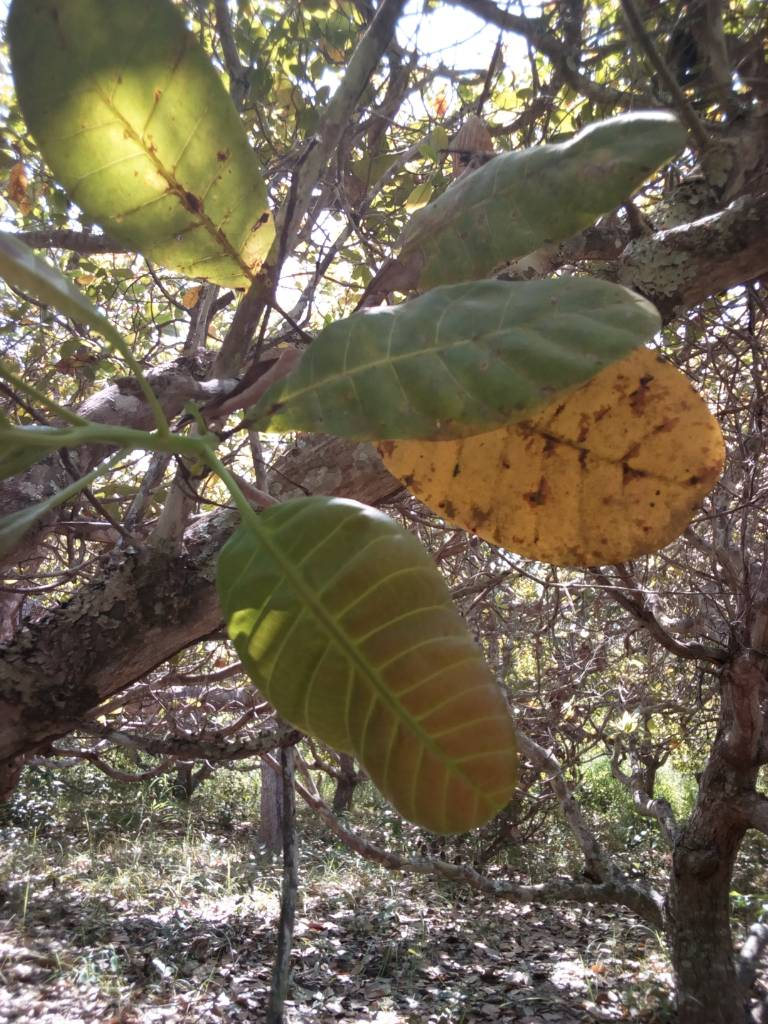Anthracnose: (5, 1, 274, 291), (375, 349, 727, 569), (241, 266, 674, 436), (368, 110, 688, 272)
